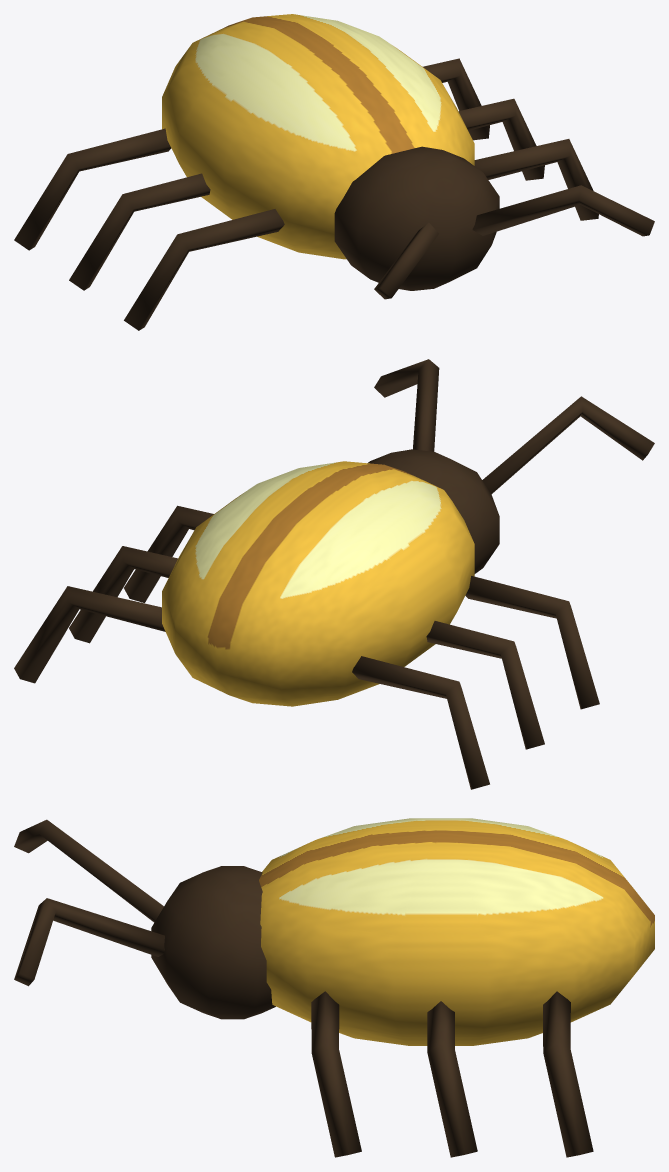
The model's file is gold_beetle.glb.
3 views of the same model, one above another, from view 1: azimuth 30°, elevation 25°; view 2: azimuth 150°, elevation 25°; view 3: azimuth 270°, elevation 25° (orthographic). The views are drawn at different scales.
Parts seen in each view (by area): view 1: GoldBeetle; view 2: GoldBeetle; view 3: GoldBeetle.
Boxes of the visible parts, x1=… form: GoldBeetle: x1=14, y1=14, x2=654, y2=330; GoldBeetle: x1=14, y1=359, x2=654, y2=789; GoldBeetle: x1=14, y1=818, x2=654, y2=1157.
Bounding box in the file's own units: 0.2506 × 0.0993 × 0.2767.
Materials: 1 (1 with a texture image).
